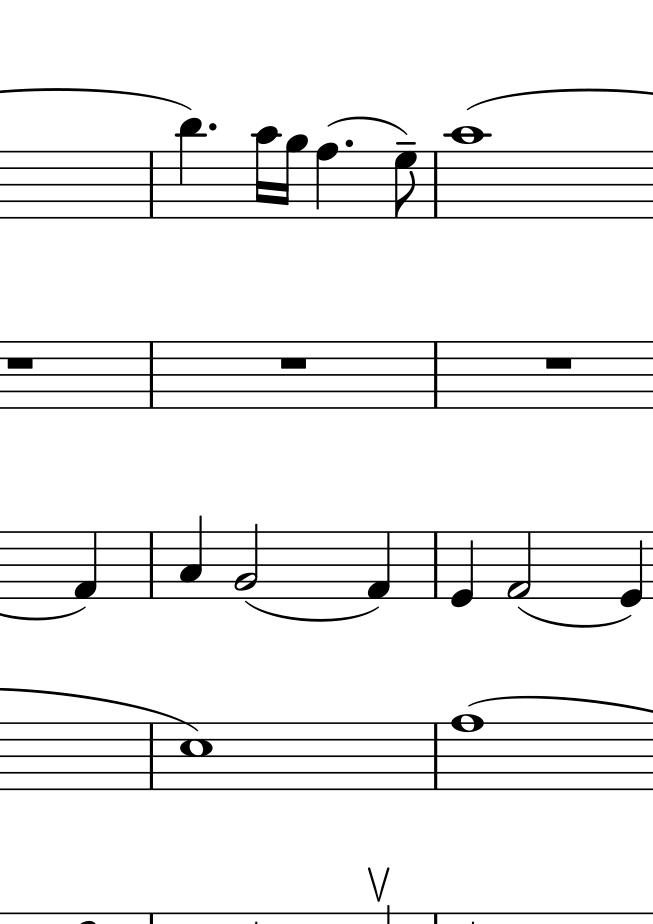16_10: (252, 124, 280, 220)
16_9: (279, 133, 309, 222)
1_10: (448, 124, 484, 220), (449, 711, 486, 792)
1_5: (180, 722, 213, 792)
2_1: (506, 529, 535, 602)
2_2: (232, 522, 260, 600)
4_0: (618, 530, 643, 609), (449, 531, 474, 609)
4_1: (72, 529, 99, 601), (365, 530, 391, 600)
4_11: (174, 116, 203, 219)
4_3: (178, 513, 205, 601)
4_8: (314, 142, 338, 220)
8_7: (392, 149, 418, 220)
Rests1: (2, 353, 39, 374), (543, 351, 574, 374), (276, 354, 312, 373)
Single_barline: (142, 723, 160, 791), (427, 532, 445, 598), (143, 151, 159, 217), (143, 531, 159, 597), (428, 723, 444, 789), (427, 152, 443, 217), (428, 343, 443, 409), (144, 341, 158, 410)
Slur: (245, 599, 381, 620), (517, 603, 633, 627), (327, 115, 407, 136)
Tremolo_bar: (364, 864, 393, 901)
dot: (205, 121, 219, 136), (343, 136, 355, 149)
